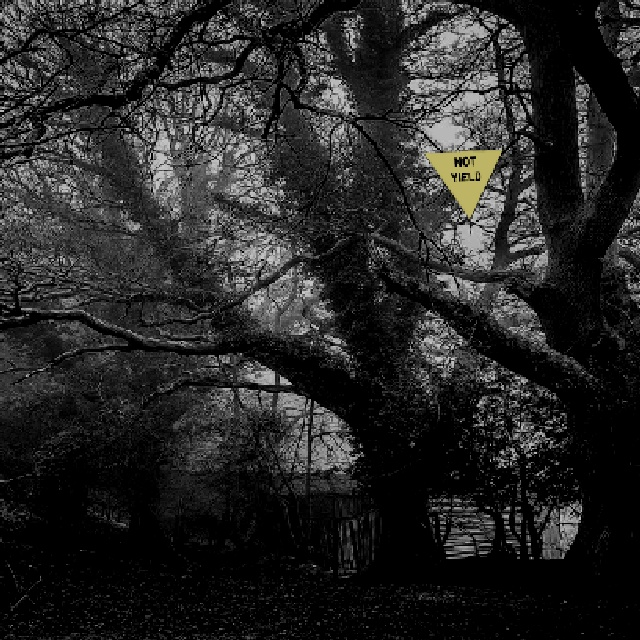NOT_YIELD: (421, 147, 503, 219)
